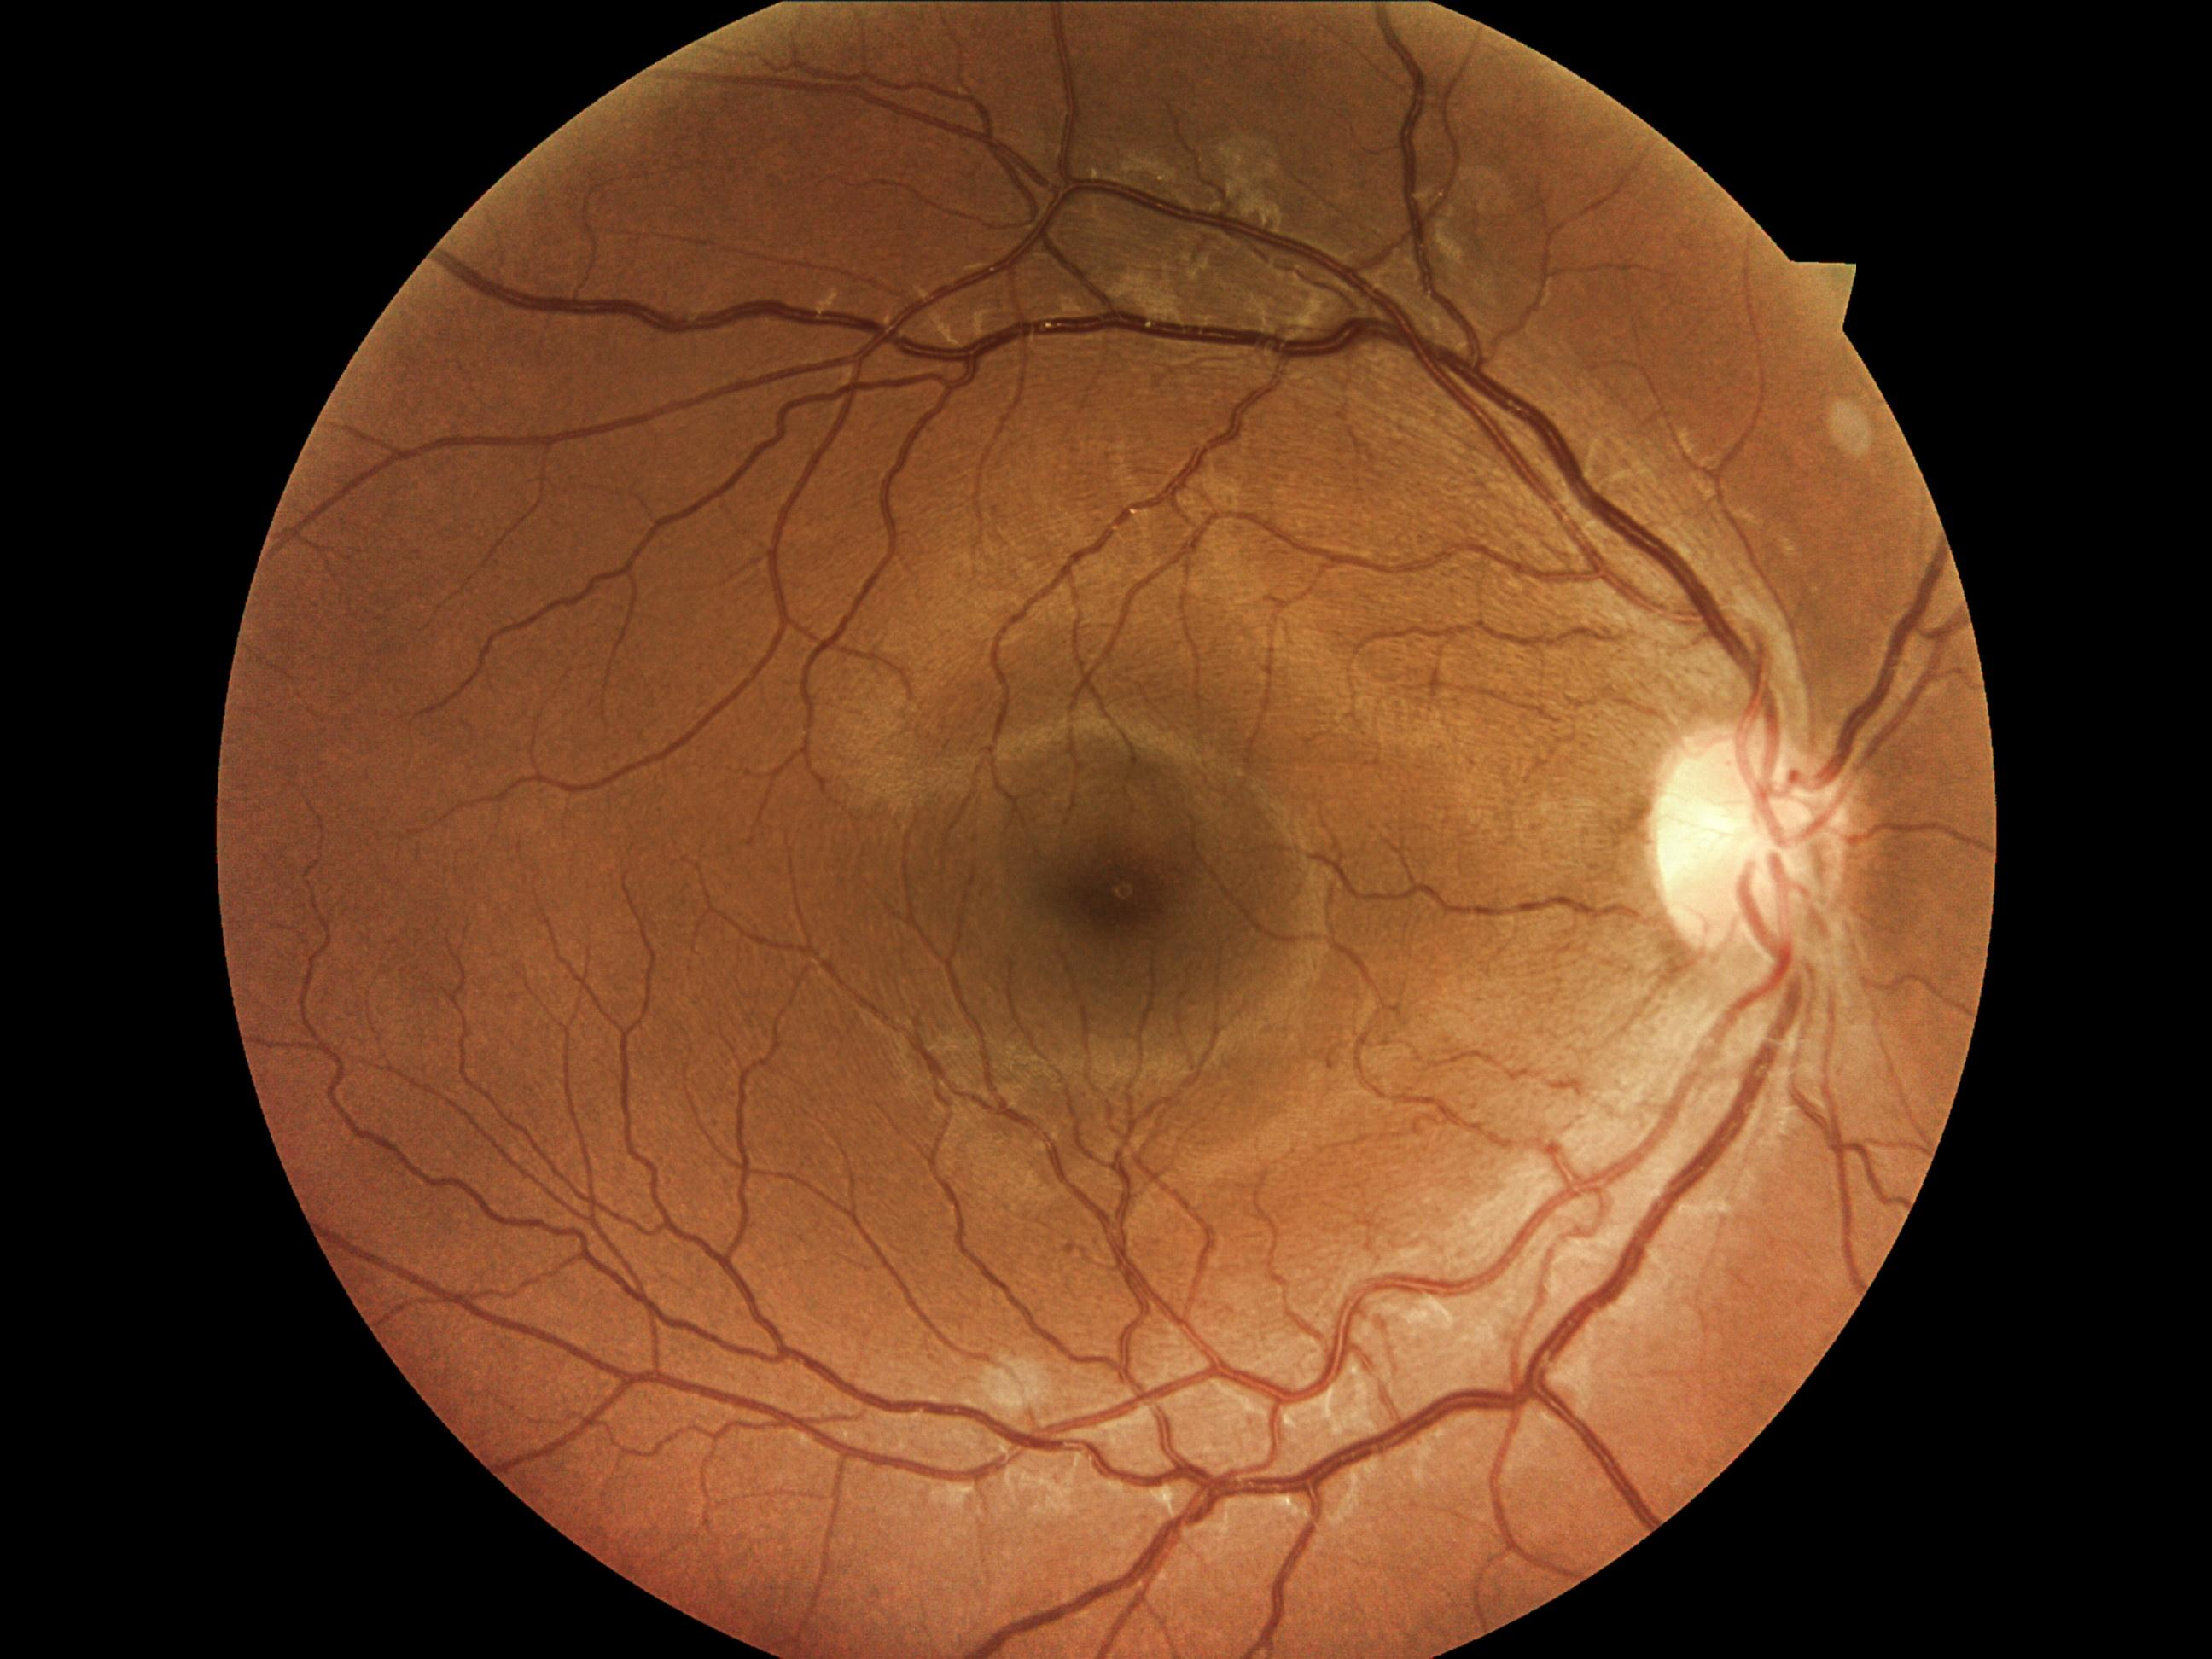Optic-nerve: (1642, 713, 1846, 958)
macula: (899, 734, 1318, 1101)
notch: (1782, 249, 1907, 328)
